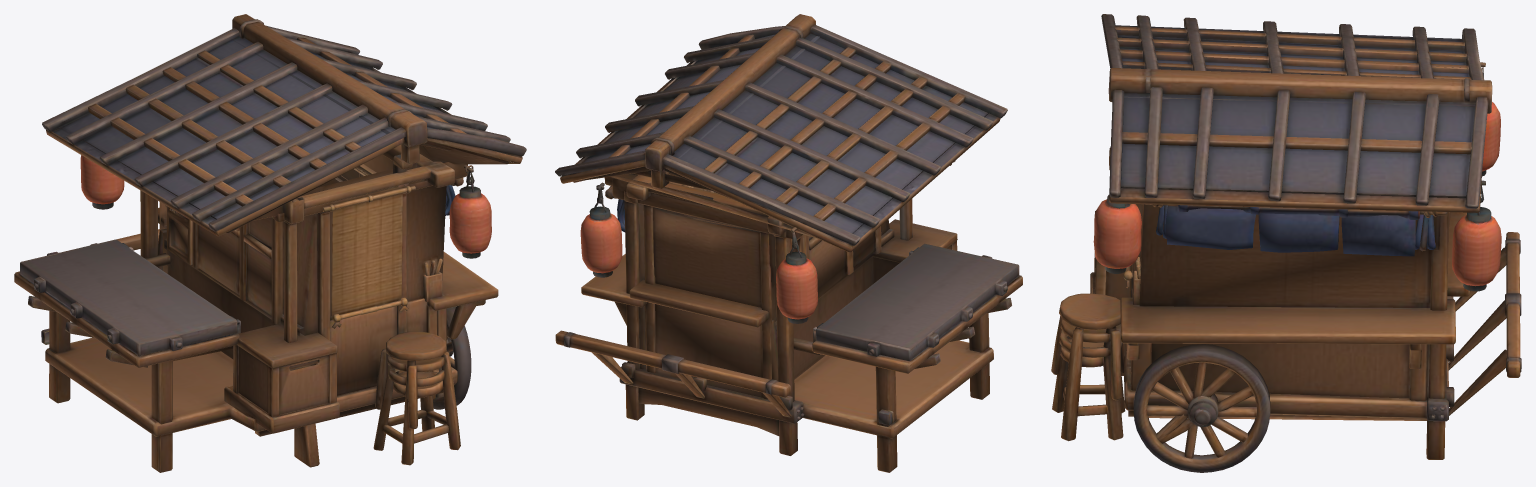
The model's file is yatai.glb.
3 renders of one model, left to right at view 1: azimuth 30°, elevation 25°; view 2: azimuth 150°, elevation 25°; view 3: azimuth 270°, elevation 25°, orthographic. The views are drawn at different scales.
Parts seen in each view (by area): view 1: tripo_node_eba6e798-16ca-40d5-8743-e992314a9532; view 2: tripo_node_eba6e798-16ca-40d5-8743-e992314a9532; view 3: tripo_node_eba6e798-16ca-40d5-8743-e992314a9532.
Part boxes in pixels (bbox=[...]): tripo_node_eba6e798-16ca-40d5-8743-e992314a9532: bbox=[14, 14, 526, 472]; tripo_node_eba6e798-16ca-40d5-8743-e992314a9532: bbox=[555, 14, 1022, 472]; tripo_node_eba6e798-16ca-40d5-8743-e992314a9532: bbox=[1051, 14, 1521, 472].
Size of the model in its own units: 0.9995 by 0.8345 by 0.9692.
Materials: 1 (1 with a texture image).
